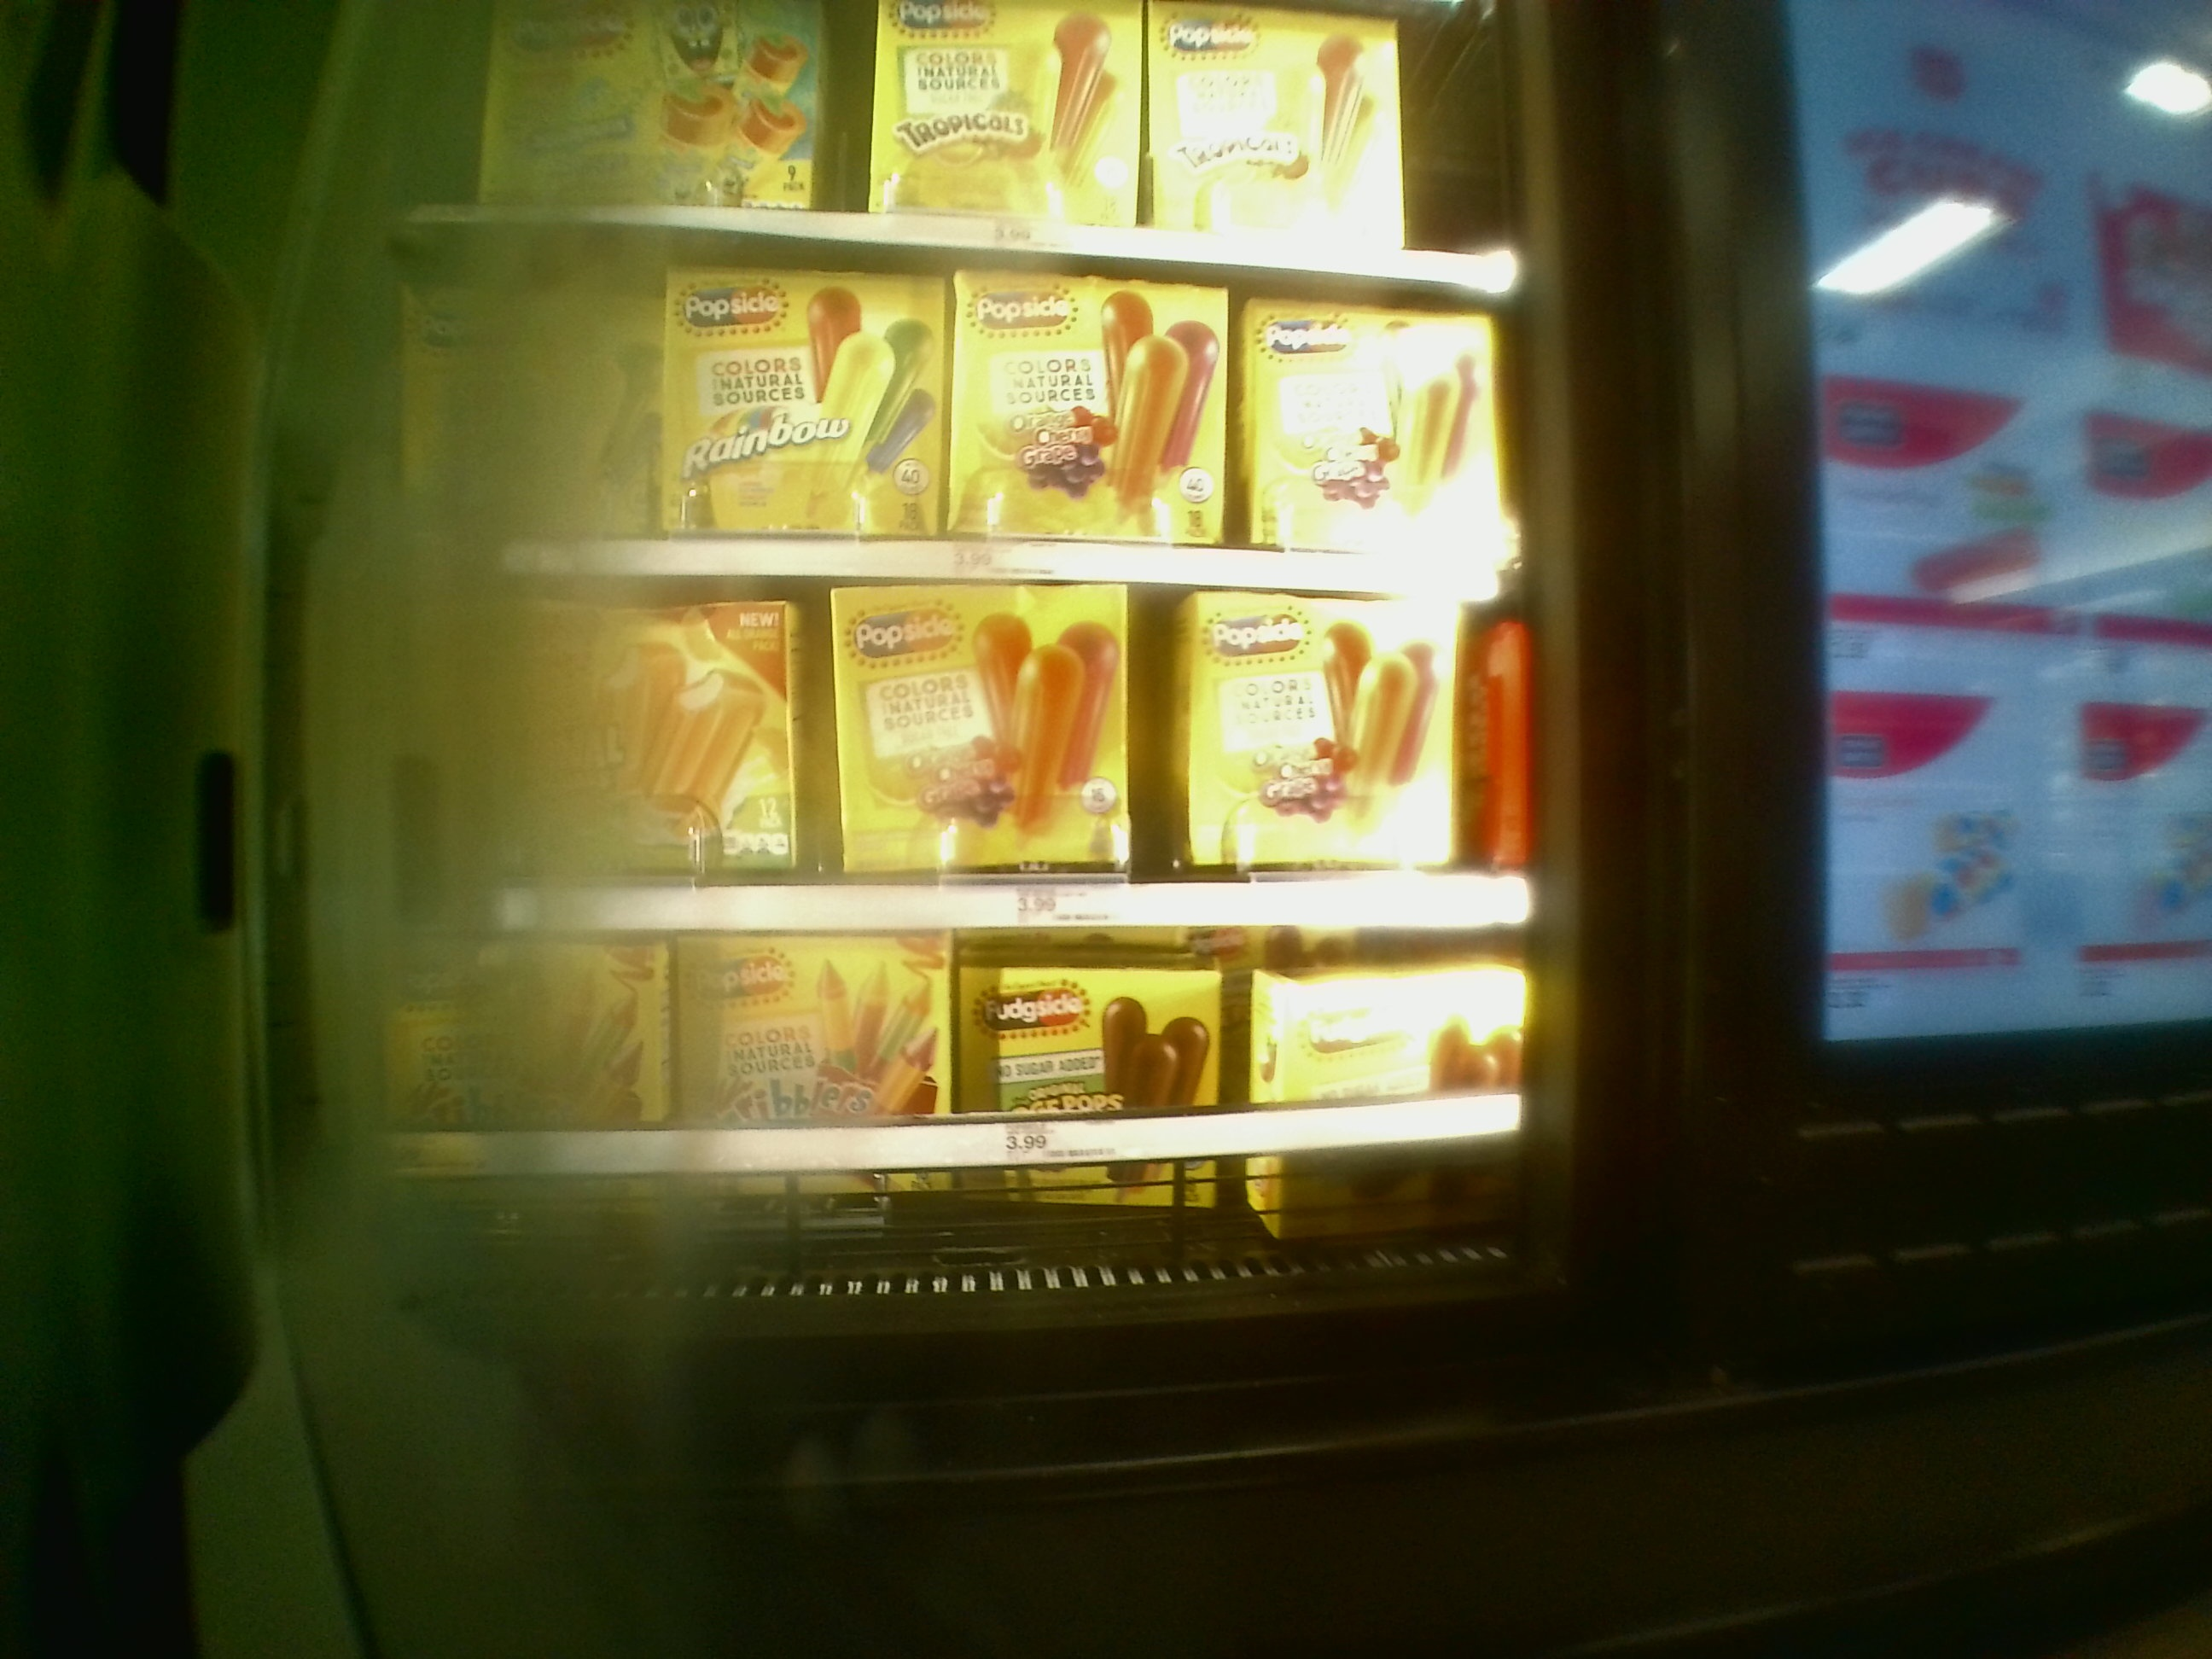frozen-food-shelf: (474, 580, 1555, 939)
